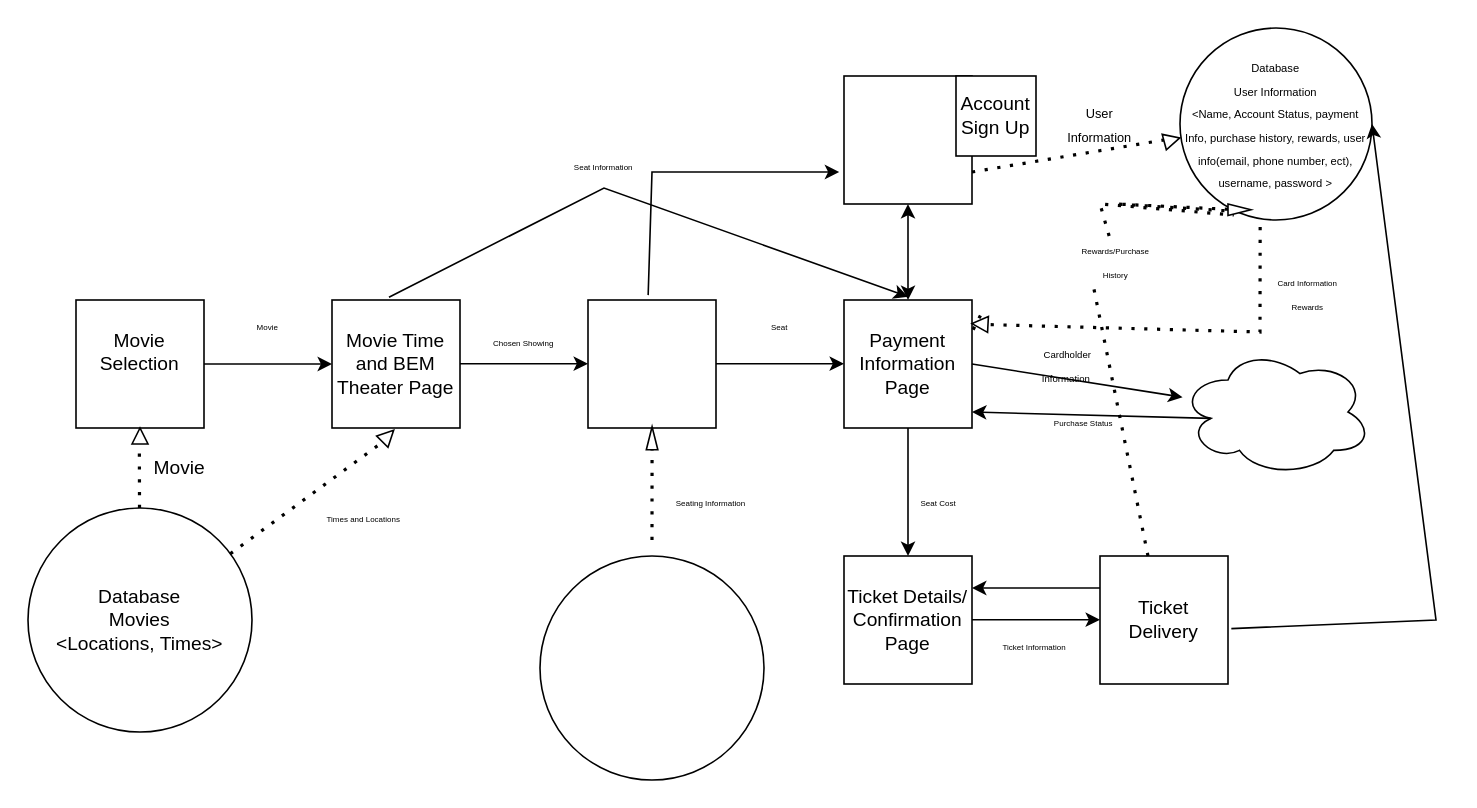
The diagram is 1477 pixels wide and 808 high, and some of its shapes have lost their labels. The centre of each missing label's shape, as x and y in pixels:
Bank Information: [1275,411]
Database Theaters <Available seats, Theater Map, ADA>: [651,667]
Login Page: [907,139]
Seat Selection P age: [651,363]
